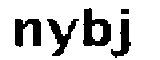b: (79, 5, 112, 49)
j: (111, 2, 135, 60)
n: (11, 16, 43, 51)
y: (43, 16, 79, 60)
